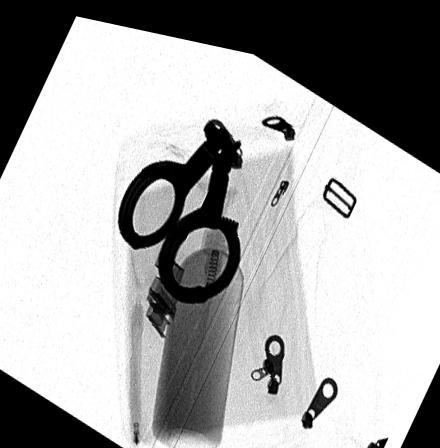HandCuffs: (119, 108, 244, 295)
